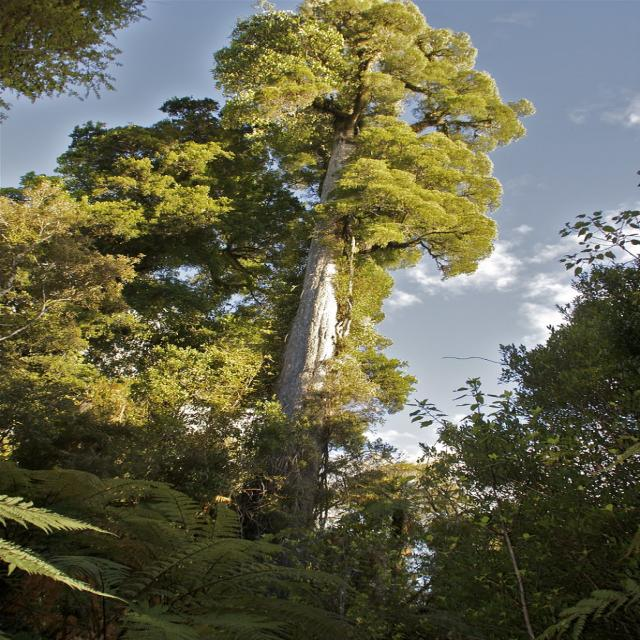Kahikatea: (210, 4, 496, 428)
